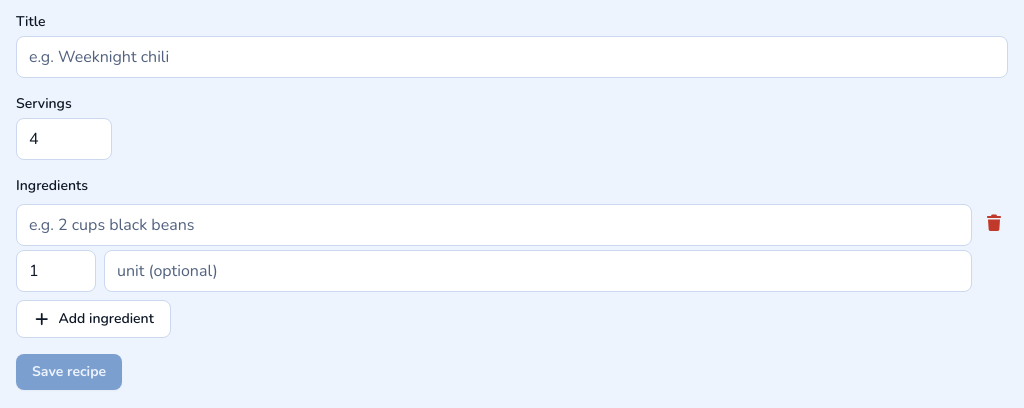
Test case: RecipeForm › disables save until the form is valid
Expected: the button "Save recipe" is disabled, top-left (16, 354), bottom-right (122, 390)
# Title alone is not enough — still needs a filled ingredient.
Step 1. Type "Chili" into the field labelled "Title" → (512, 57), box top-left (16, 36), bottom-right (1008, 78)
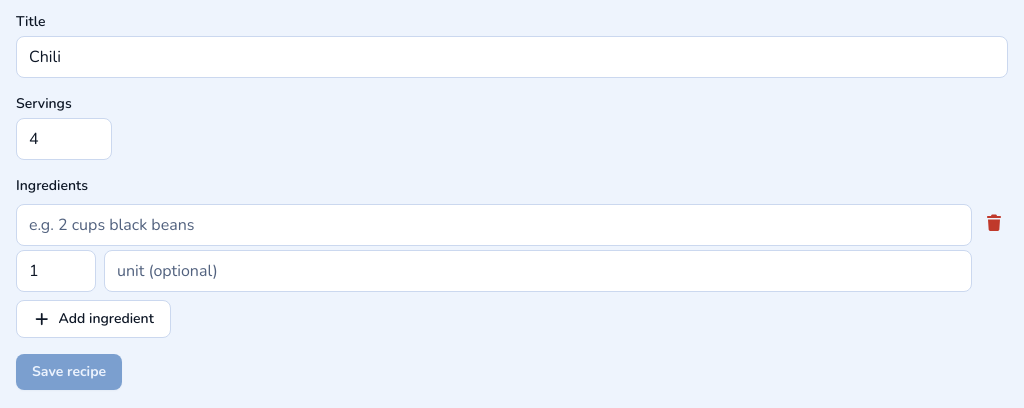
Expected: the button "Save recipe" is disabled, top-left (16, 354), bottom-right (122, 390)
Step 2. Type "2 cups beans" into the field named "Ingredient 1" → (494, 225), box top-left (16, 204), bottom-right (972, 246)
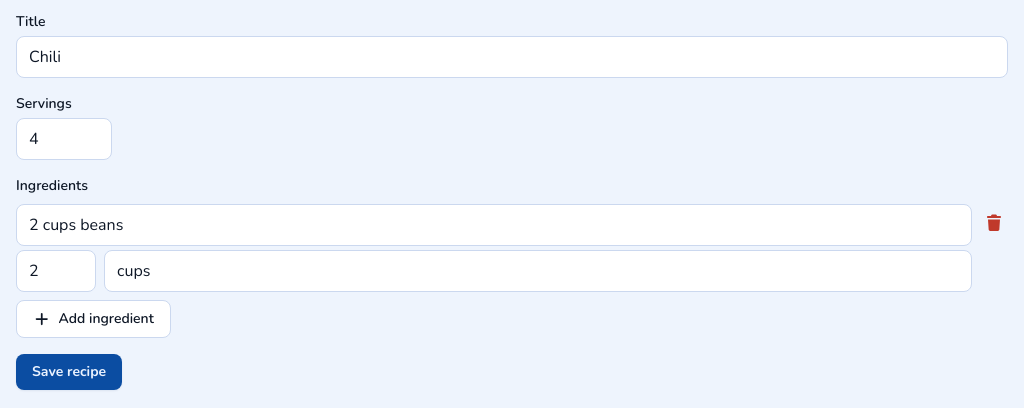
Now the button "Save recipe" is enabled, box top-left (16, 354), bottom-right (122, 390)
